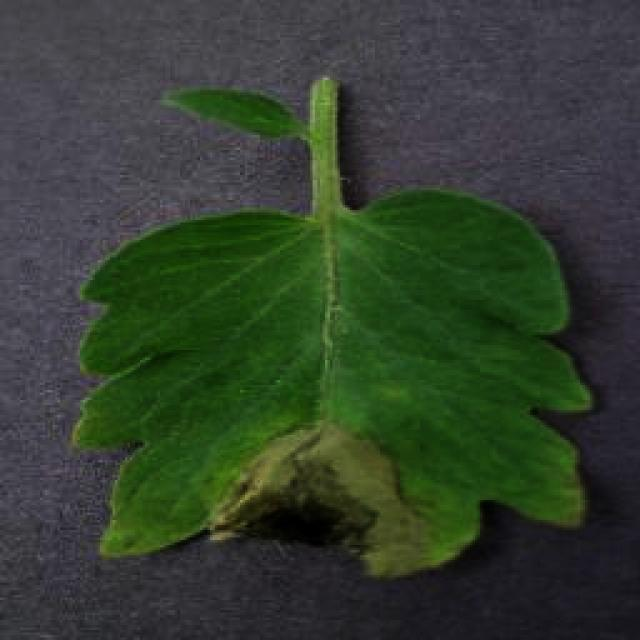Tomato late blight leaf: (68, 185, 600, 585)
